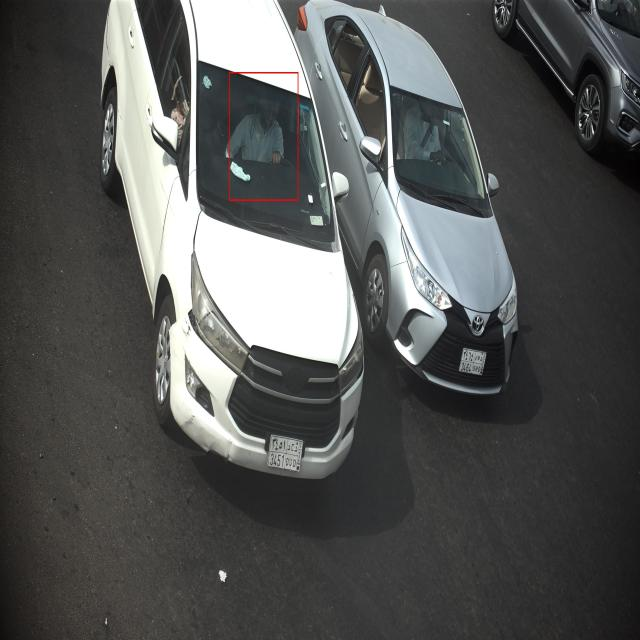windshield: (196, 56, 335, 255), (388, 78, 492, 216)
